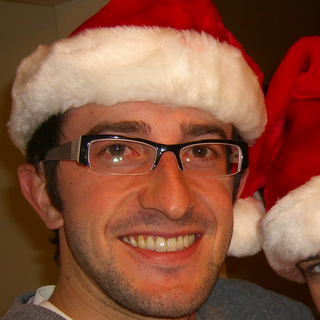eye: (96, 139, 144, 165), (178, 142, 221, 162)
